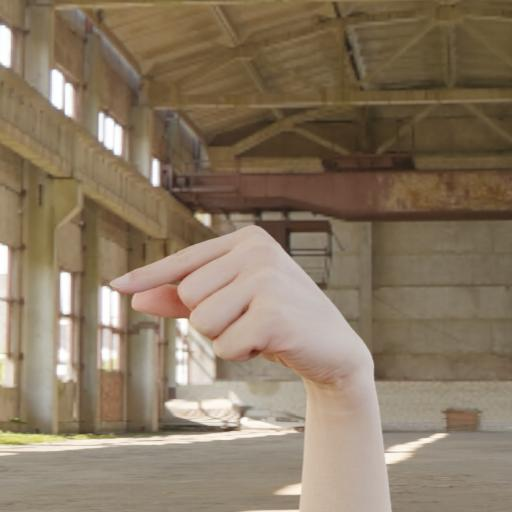G: (84, 198, 382, 438)
